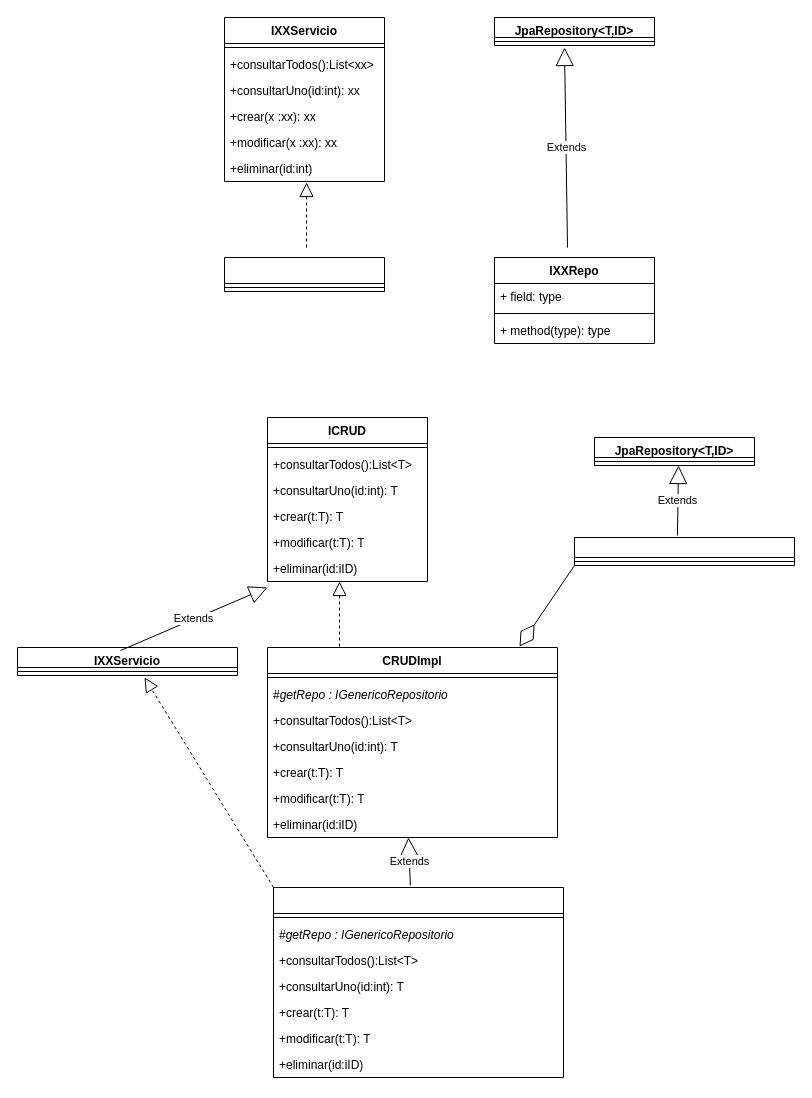
The diagram is 812 pixels wide and 1098 high, and some of its shapes have lost their labels. Here are the shapes that lost their labels. From the top down, the box of each, then its label:
(224, 256, 384, 292): XXServicio
(574, 536, 794, 566): IGenericoRepositorio<T,ID>
(272, 886, 564, 1078): XXServicioImpl
